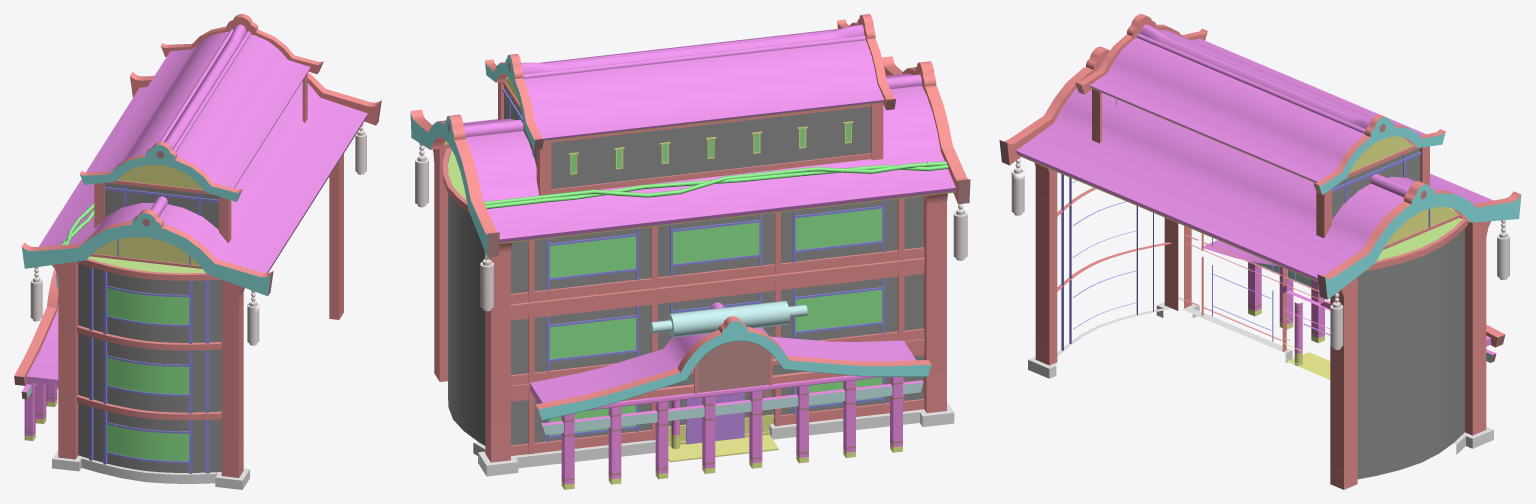
The model's file is SM_ENV_LKNVLD_VRArena_Structure_B.gltf.
The picture shows the model from 3 angles, left to right: view 1: azimuth 30°, elevation 25°; view 2: azimuth 150°, elevation 25°; view 3: azimuth 270°, elevation 25°; orthographic projection. The views are drawn at different scales.
Parts seen in each view (by area): view 1: SM_ENV_LKNVLD_VRArena_Structure_B; view 2: SM_ENV_LKNVLD_VRArena_Structure_B; view 3: SM_ENV_LKNVLD_VRArena_Structure_B.
Part boxes in pixels (left/top/right/bottom): SM_ENV_LKNVLD_VRArena_Structure_B: left=14, top=14, right=381, bottom=489; SM_ENV_LKNVLD_VRArena_Structure_B: left=410, top=14, right=970, bottom=489; SM_ENV_LKNVLD_VRArena_Structure_B: left=999, top=14, right=1521, bottom=489.
Size of the model in its own units: 37.86 by 27.12 by 37.86.
